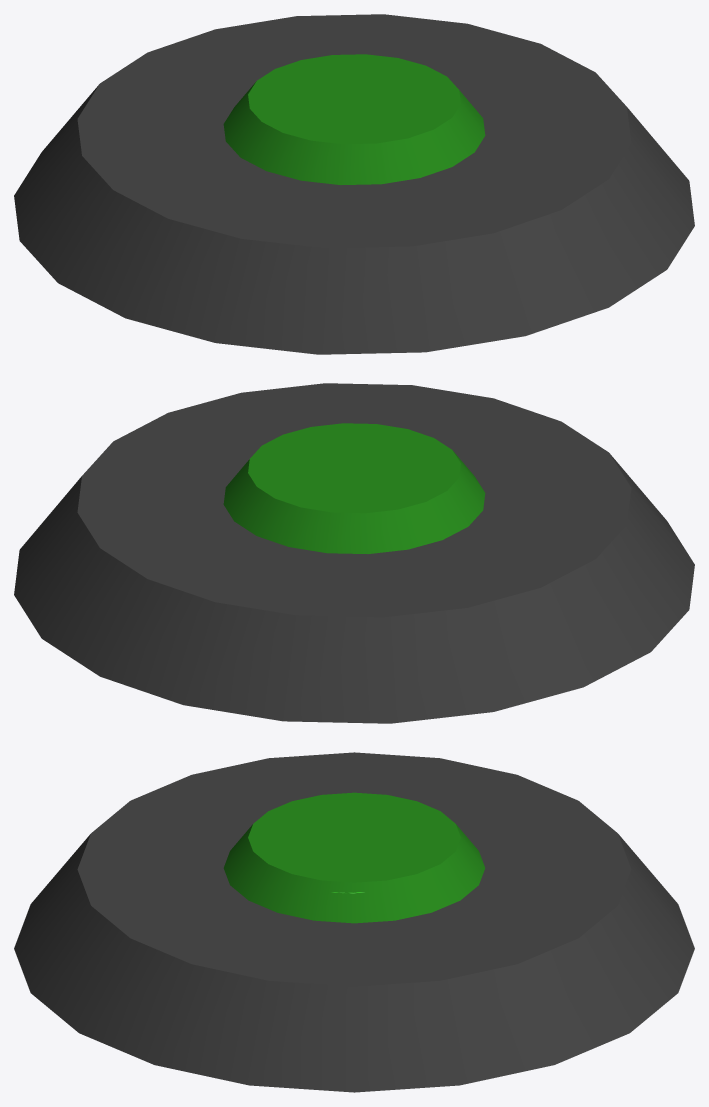
Rendered from Button_Black.obj.
3 renders of one model, top to bottom at view 1: azimuth 30°, elevation 25°; view 2: azimuth 150°, elevation 25°; view 3: azimuth 270°, elevation 25°, orthographic.
Parts seen in each view (by area): view 1: pCylinder9, pCylinder10; view 2: pCylinder9, pCylinder10; view 3: pCylinder9, pCylinder10.
Boxes of the visible parts, box(x1,y1,x2,y2) form: pCylinder9: box(14, 14, 694, 354); pCylinder10: box(223, 54, 485, 184); pCylinder9: box(14, 383, 694, 723); pCylinder10: box(223, 423, 485, 553); pCylinder9: box(14, 752, 694, 1092); pCylinder10: box(223, 792, 485, 923).
Size of the model in its own units: 2 by 0.3596 by 2.
Materials: 2 (2 with a texture image).
